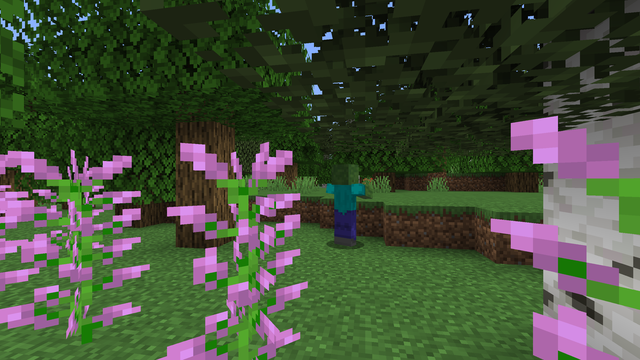zombies: (331, 166, 356, 247)
